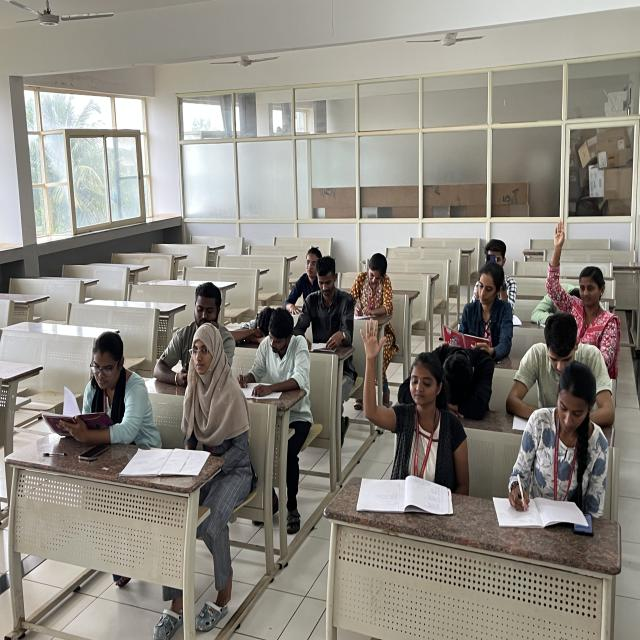Hand Rising: (362, 318, 454, 465), (546, 216, 626, 325)
Reading: (42, 320, 148, 434), (447, 268, 520, 366), (304, 259, 348, 354)
Sleeping: (421, 345, 501, 418), (234, 285, 281, 343)
Using Phone: (154, 284, 228, 386), (470, 239, 523, 296)
Writing: (497, 365, 598, 511), (235, 319, 317, 424), (345, 237, 400, 320)
